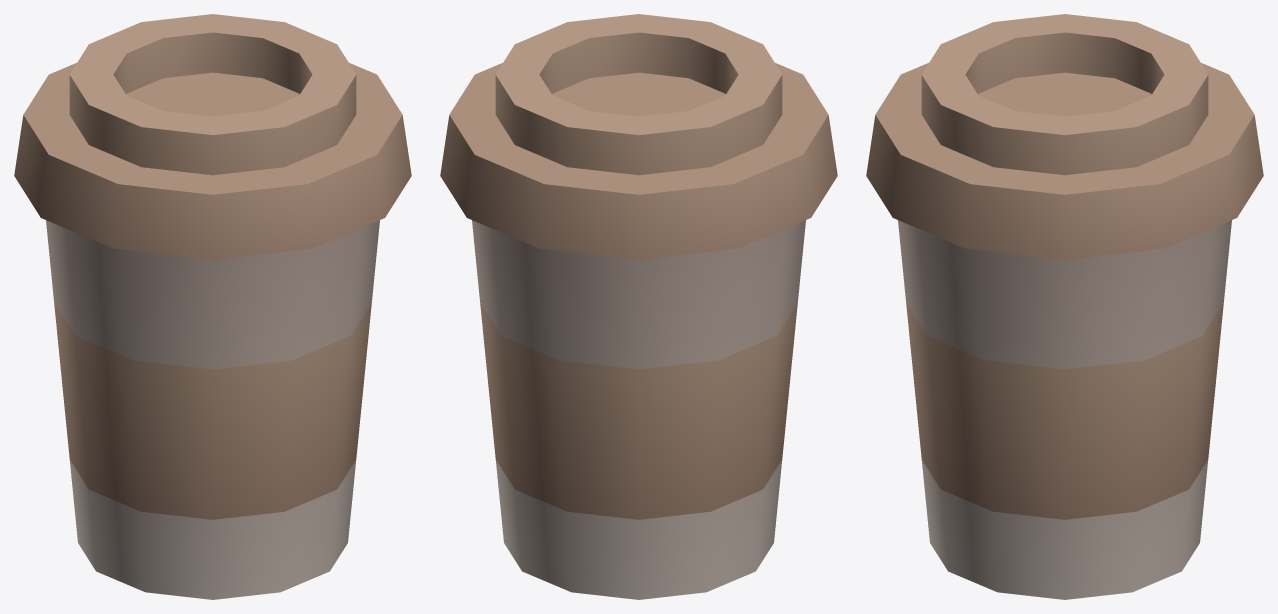
File: coffee-cup.glb
3 renders of one model, left to right at view 1: azimuth 30°, elevation 25°; view 2: azimuth 150°, elevation 25°; view 3: azimuth 270°, elevation 25°, orthographic.
Parts seen in each view (by area): view 1: coffee-cup; view 2: coffee-cup; view 3: coffee-cup.
Part boxes in pixels (x1,y1,x2,y2): coffee-cup: (14, 14, 411, 599); coffee-cup: (440, 14, 837, 599); coffee-cup: (866, 14, 1263, 599).
Bounding box in the file's own units: 0.1797 × 0.2335 × 0.1797.
